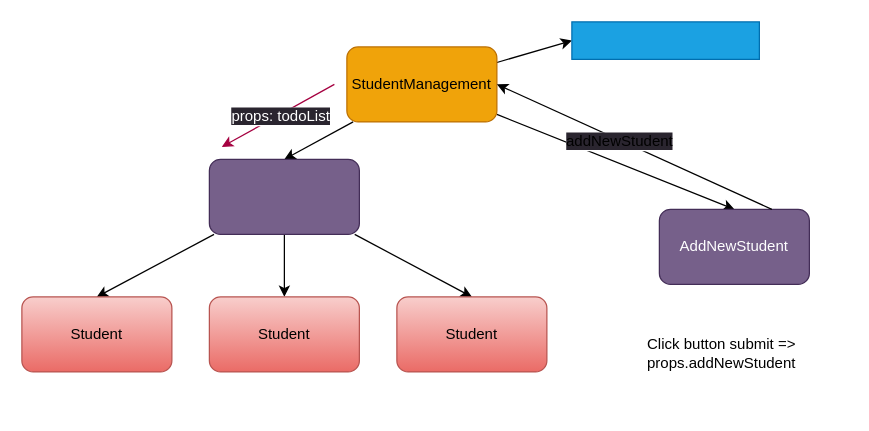
Some shapes in this 869 by 431 pixel diagram are drawn without their labels. The shapes that lost their labels are listed below. From the top down, each one's box as (x1, y1, x2, y2) in pixels, then its label:
(571, 21, 759, 59): state: todoList
(208, 158, 359, 234): StudentTable
